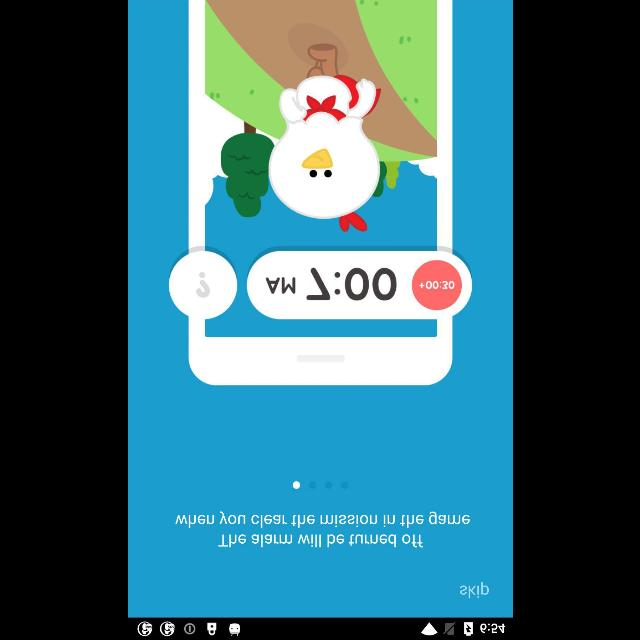image: (166, 1, 472, 386)
pageindicator: (292, 481, 348, 489)
text: (175, 511, 470, 547), (459, 582, 488, 598)
uppertaskbar: (128, 617, 512, 639)
